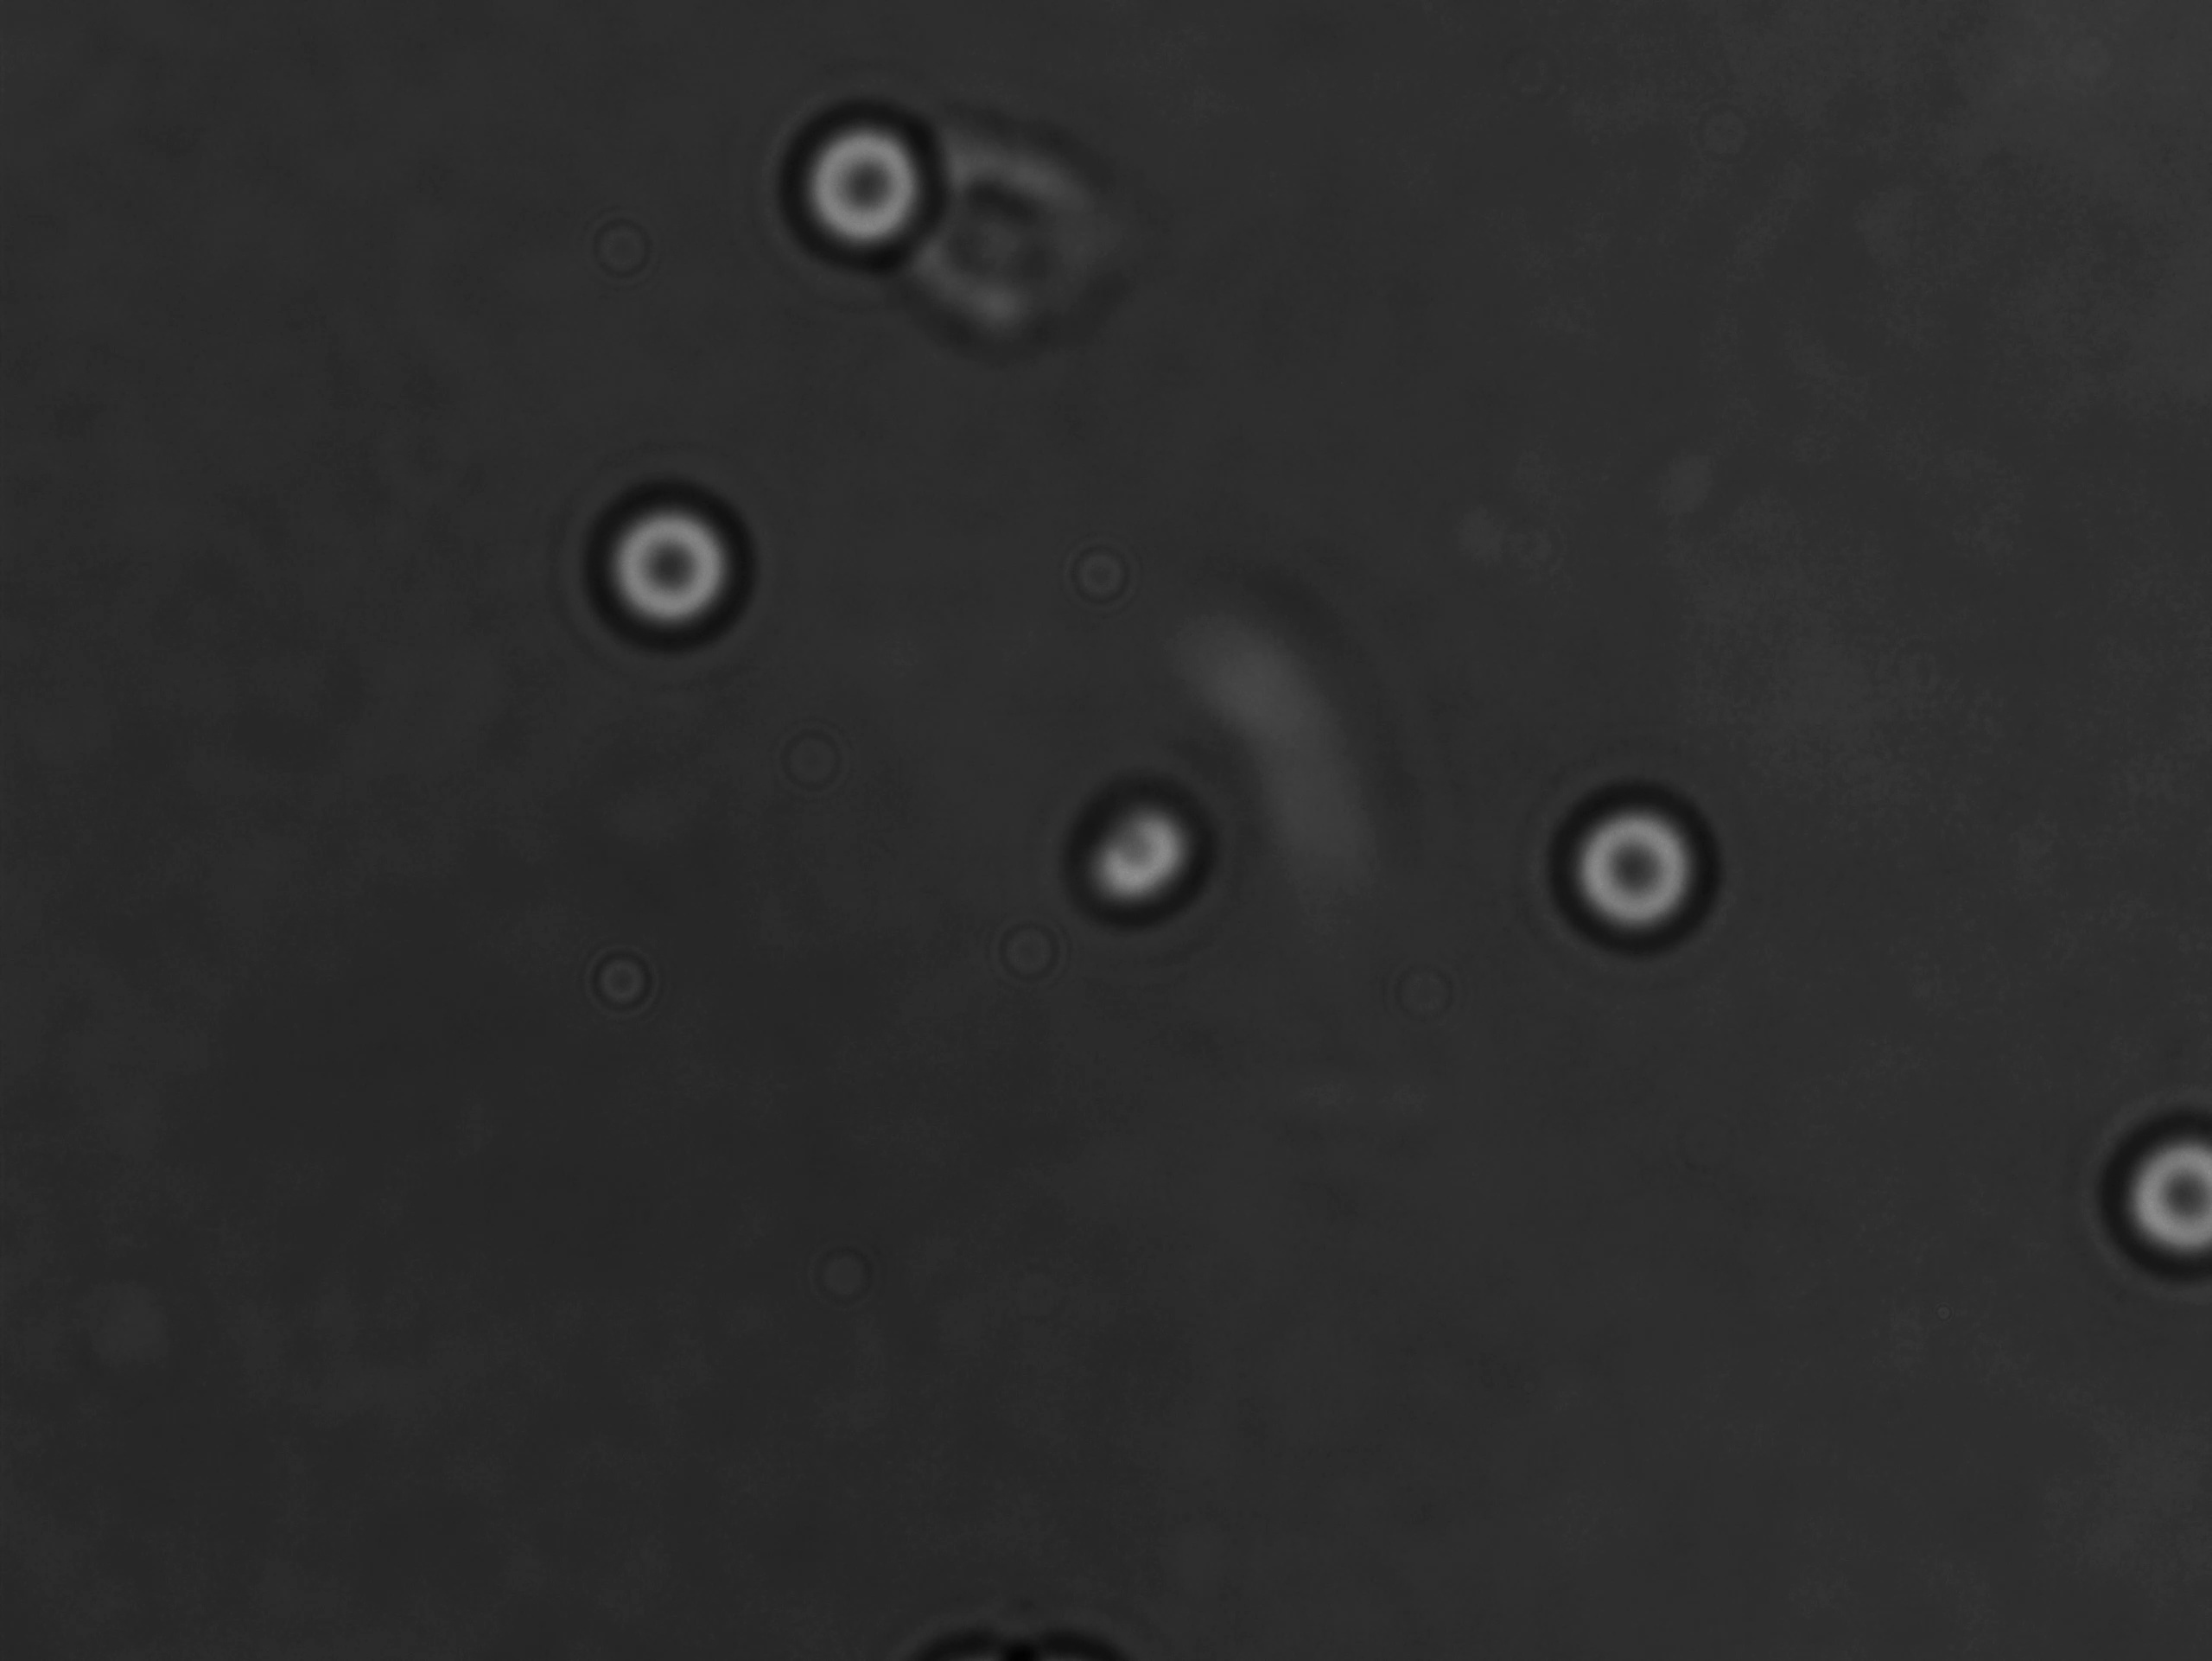depth:60: (1547, 769, 1765, 982), (572, 461, 775, 679), (769, 96, 968, 288)
